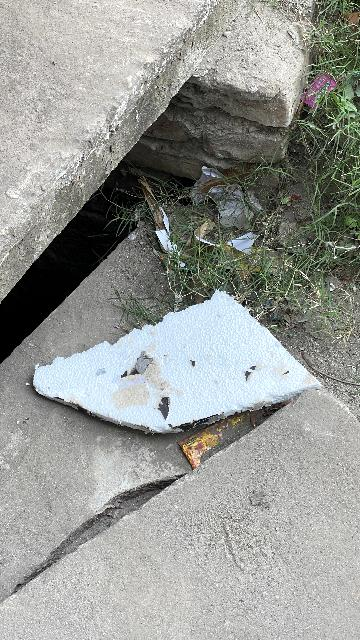cocksheet: (31, 287, 329, 436)
